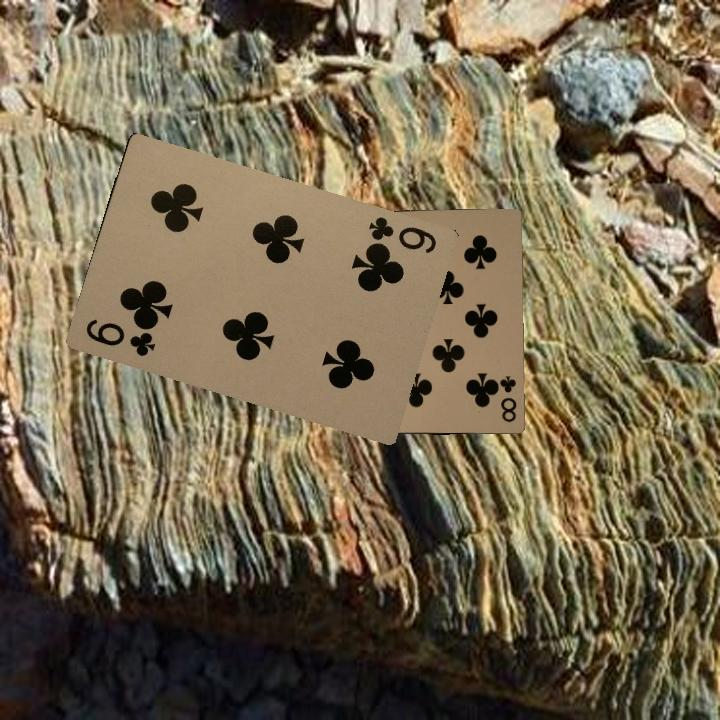6c: (365, 212, 439, 258), (81, 315, 158, 359)
8c: (494, 372, 519, 424)
